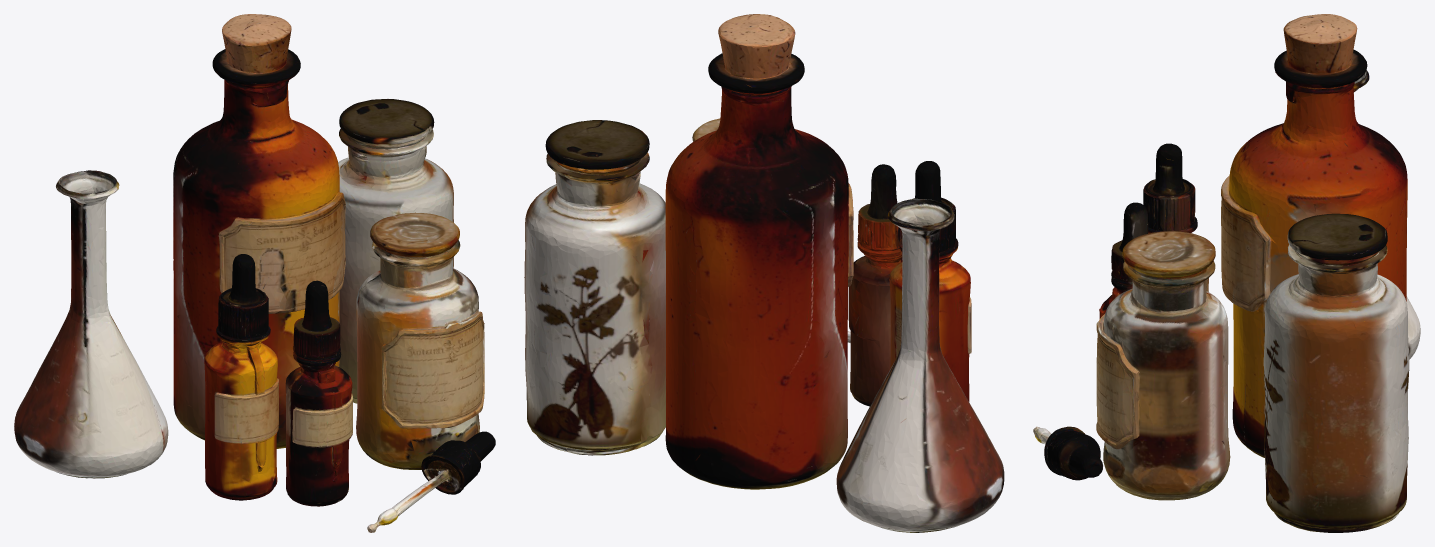
The model's file is victorian_apothecary_set.glb.
The picture shows the model from 3 angles, left to right: view 1: azimuth 30°, elevation 25°; view 2: azimuth 150°, elevation 25°; view 3: azimuth 270°, elevation 25°; orthographic projection. The views are drawn at different scales.
Visible parts, largest first — view 1: world; view 2: world; view 3: world.
Boxes of the visible parts, x1,y1,x2,y2 form: world: [14, 14, 495, 532]; world: [524, 14, 1004, 532]; world: [1033, 14, 1420, 532].
Size of the model in its own units: 1.99 by 1.84 by 1.53.
1 material, 1 textured.
